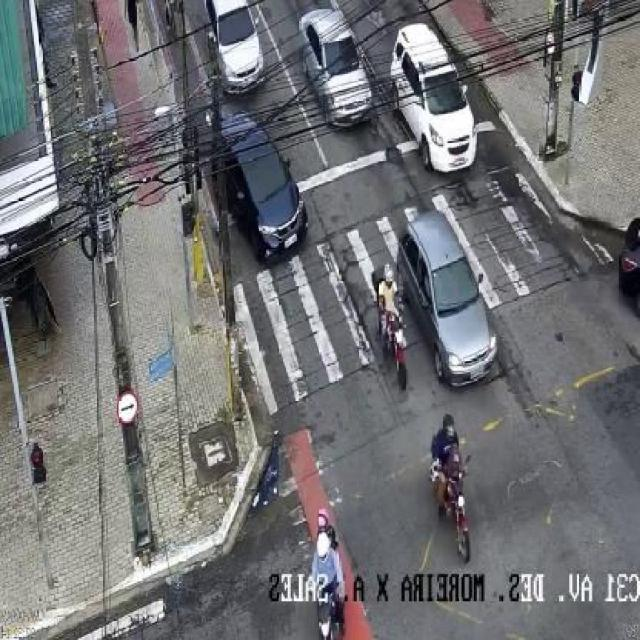Car: (395, 211, 500, 388), (215, 113, 310, 264), (393, 22, 480, 174), (298, 6, 376, 132), (204, 0, 269, 95)
Cycle: (430, 452, 474, 561), (373, 298, 411, 387)
